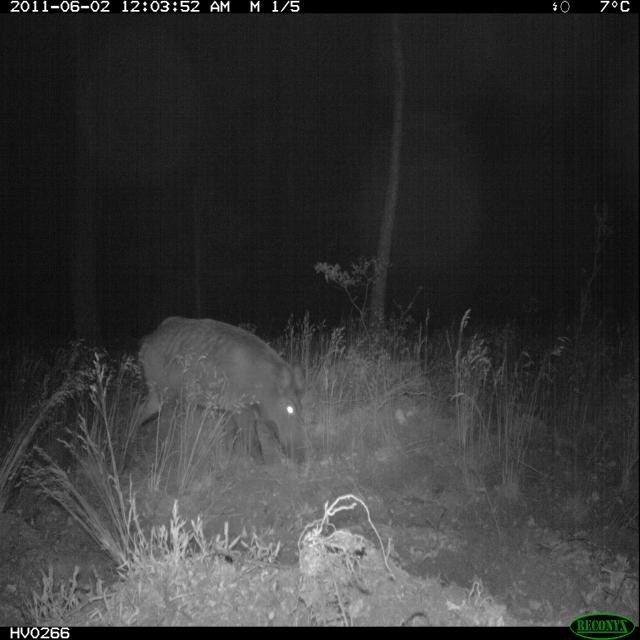boar: (85, 297, 348, 499)
